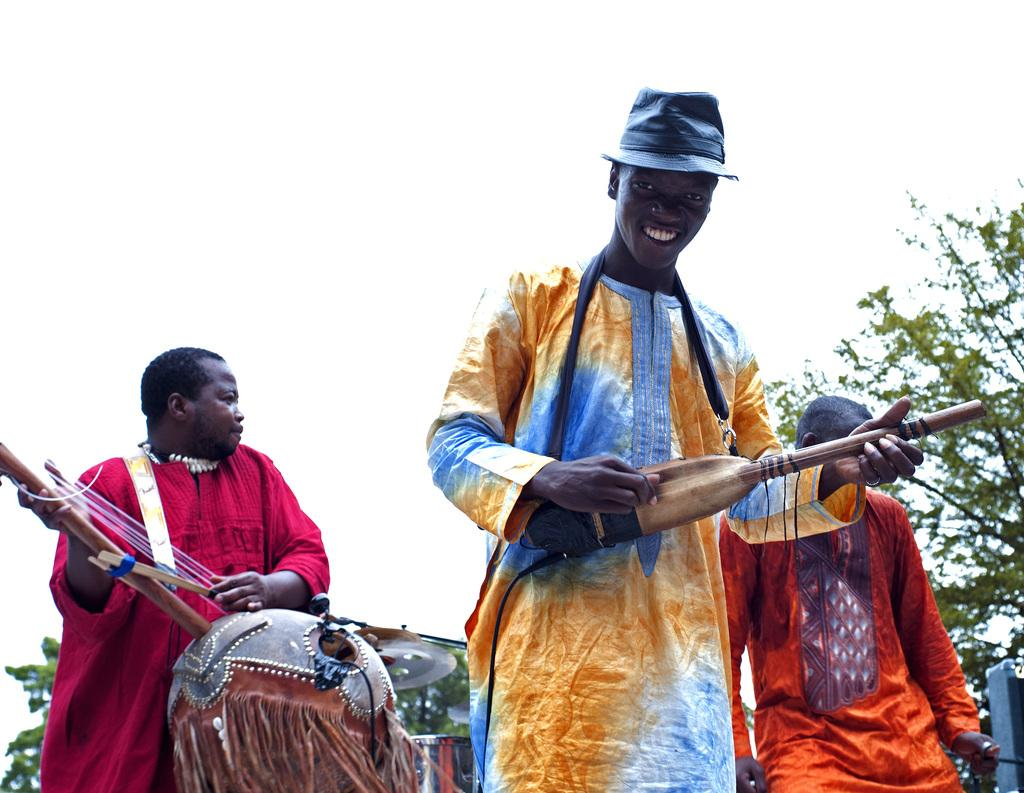Hat: (600, 88, 736, 176)
